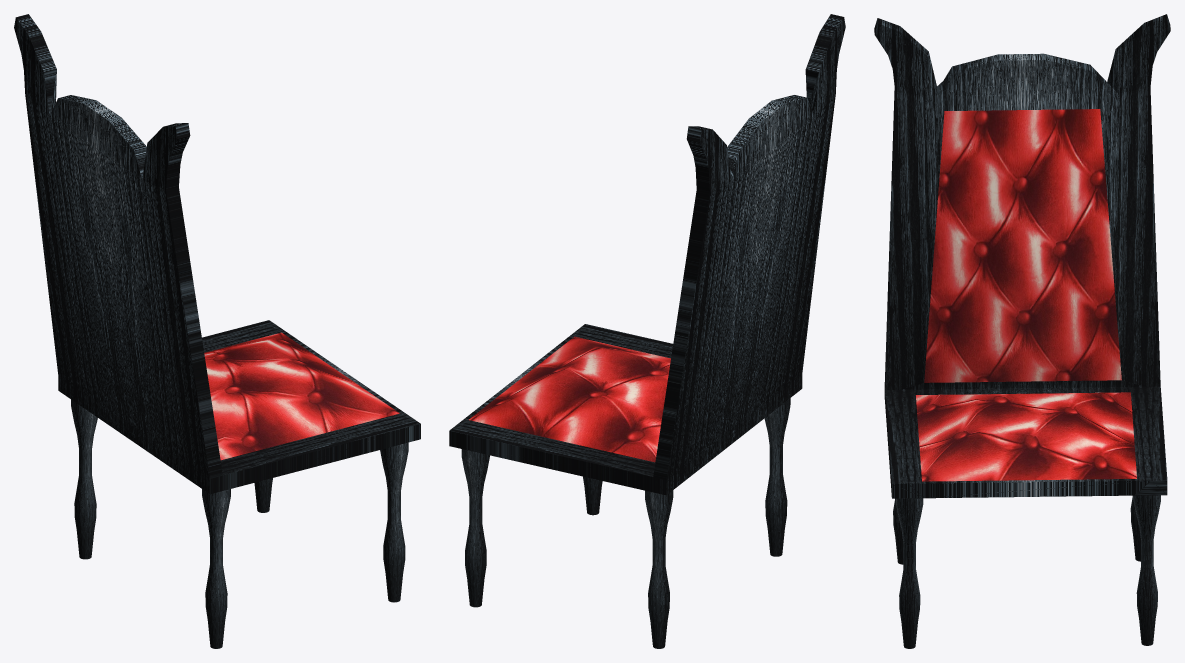
Rendered from chair1.fbx.
The picture shows the model from 3 angles, left to right: view 1: azimuth 30°, elevation 25°; view 2: azimuth 150°, elevation 25°; view 3: azimuth 270°, elevation 25°; orthographic projection. The views are drawn at different scales.
Parts seen in each view (by area): view 1: polySurface35; view 2: polySurface35; view 3: polySurface35.
Part boxes in pixels (x1,y1,x2,y2): polySurface35: (14, 14, 420, 648); polySurface35: (449, 14, 845, 648); polySurface35: (874, 14, 1170, 648).
Size of the model in its own units: 0.11 by 0.2187 by 0.1133.
